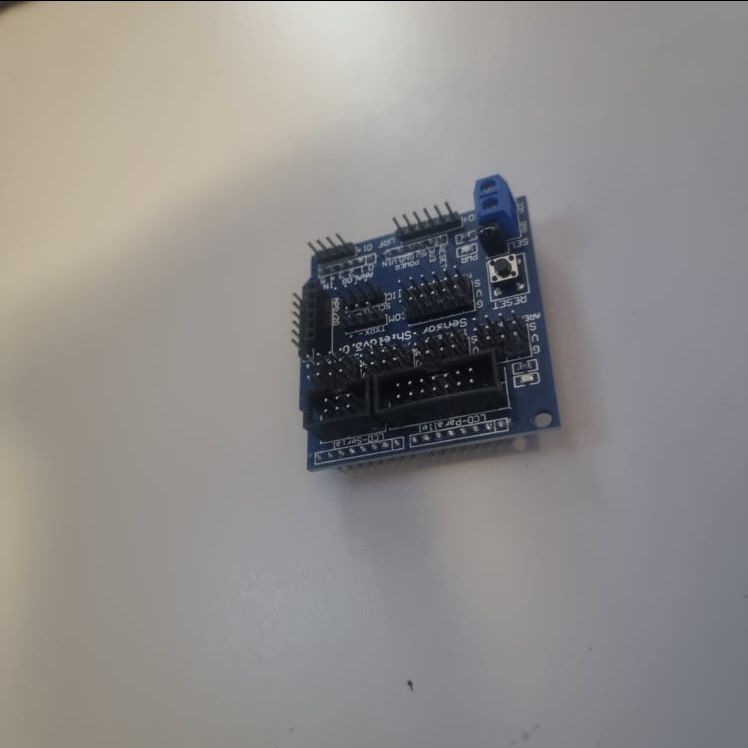5V EXPANSION: (291, 168, 561, 475)
